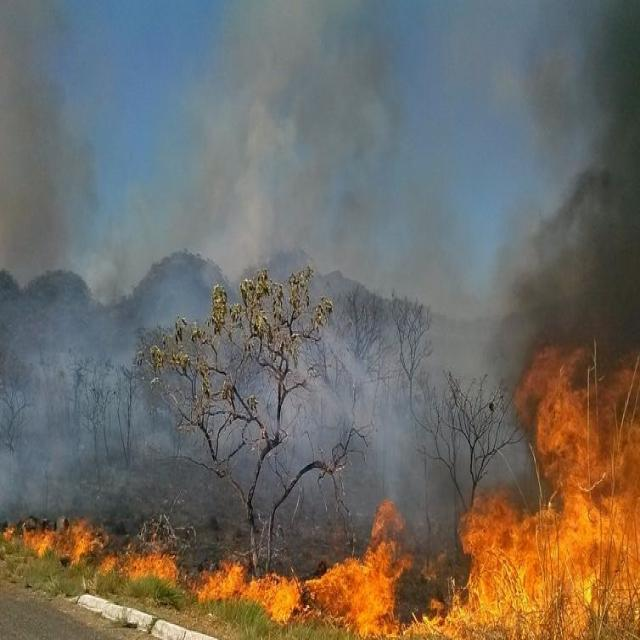fire: (465, 493, 640, 640), (206, 554, 398, 635), (538, 374, 639, 490)
